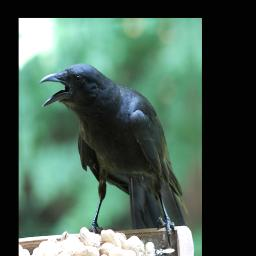Crow: (38, 52, 190, 256)
